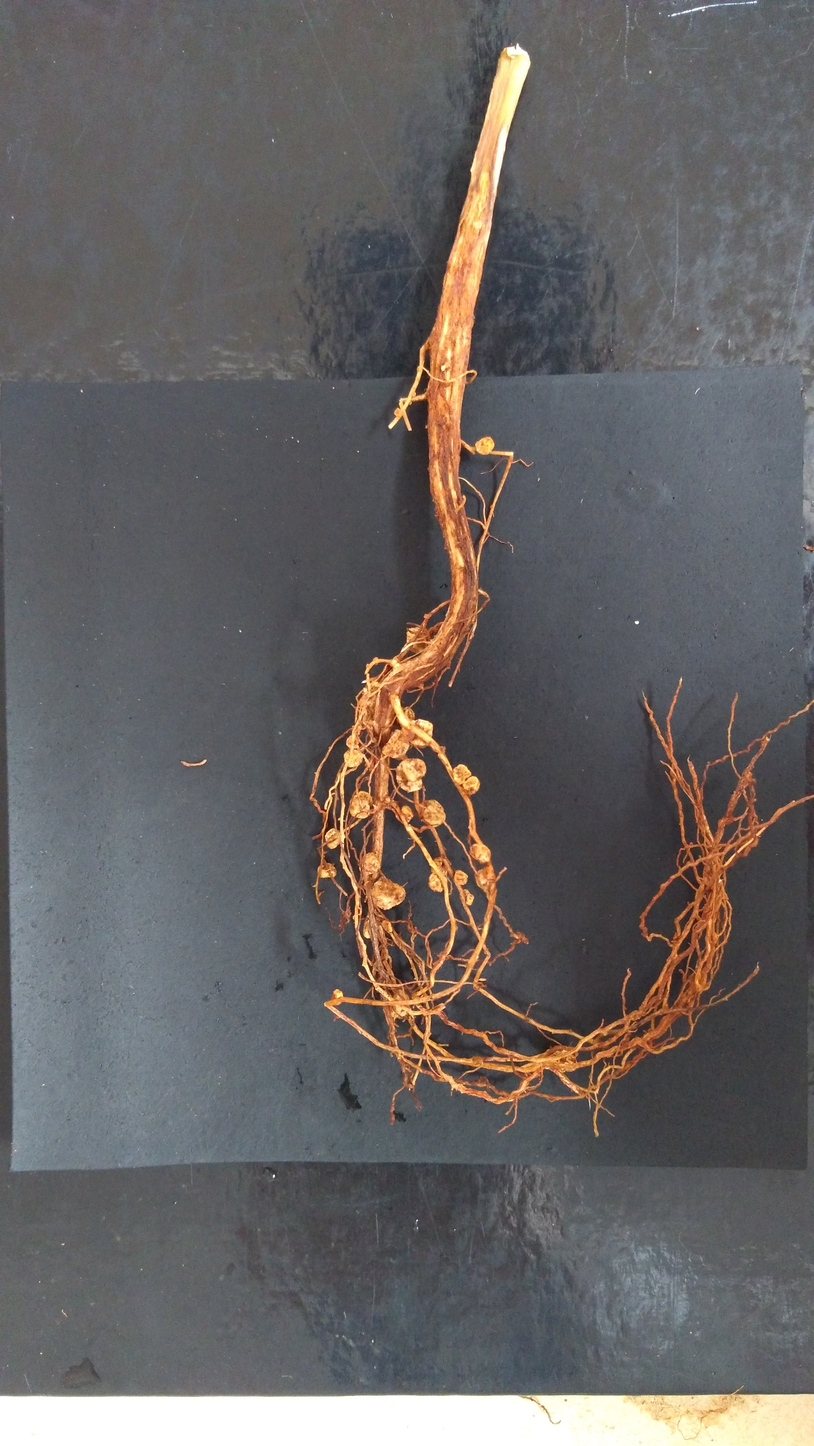nodule: (370, 876, 405, 910), (395, 758, 426, 793), (542, 1048, 577, 1074), (381, 729, 410, 759), (418, 799, 446, 827), (406, 626, 431, 655), (349, 790, 374, 819), (410, 718, 434, 748), (389, 989, 410, 1020), (362, 680, 380, 715), (474, 865, 495, 893), (358, 852, 380, 876), (363, 912, 382, 939), (401, 706, 415, 741), (469, 844, 492, 865), (453, 763, 471, 785), (475, 436, 495, 455), (343, 749, 363, 768), (429, 872, 448, 892), (462, 775, 480, 795), (395, 805, 413, 825), (325, 828, 342, 849), (431, 857, 448, 877), (317, 862, 337, 878), (331, 988, 344, 1006), (364, 757, 377, 774), (454, 869, 467, 885), (362, 716, 374, 733), (742, 770, 753, 788), (346, 734, 360, 748), (381, 919, 392, 933), (394, 408, 404, 417), (383, 795, 390, 804), (372, 657, 379, 665), (423, 613, 430, 619), (411, 392, 416, 398), (365, 662, 369, 669)
